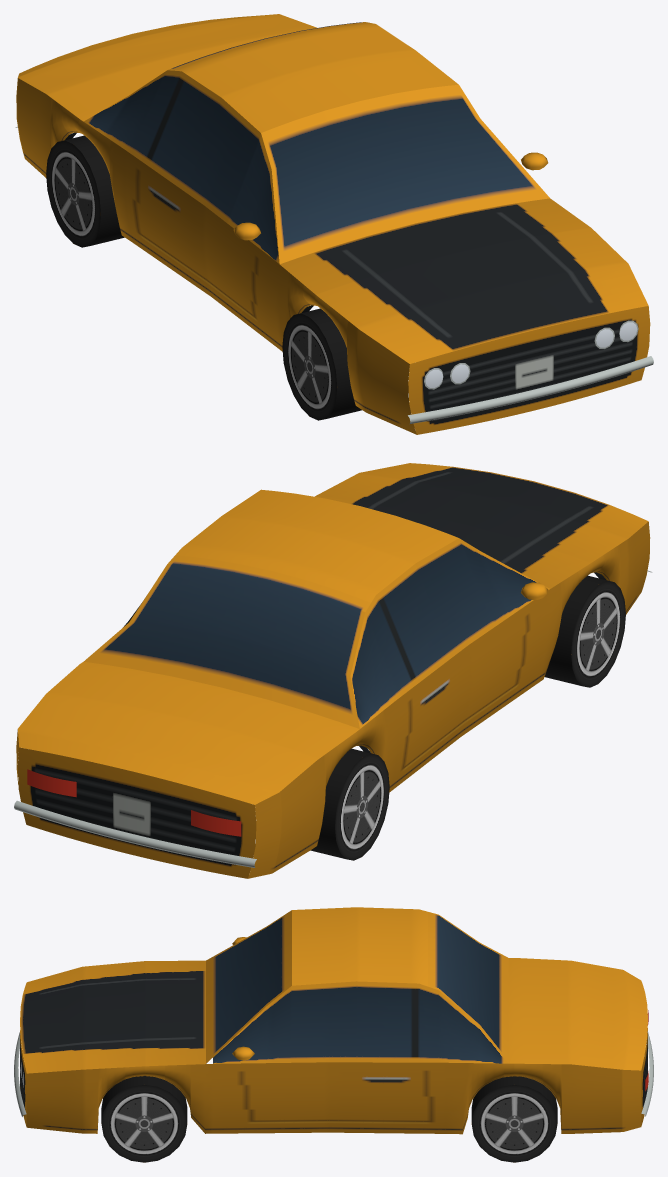
The model's file is cc96-strip-study.glb.
The picture shows the model from 3 angles, top to bottom: view 1: azimuth 30°, elevation 25°; view 2: azimuth 150°, elevation 25°; view 3: azimuth 270°, elevation 25°; orthographic projection. The views are drawn at different scales.
Visible parts, largest first — view 1: Body, Cylinder.002, Cylinder.001; view 2: Body, Cylinder.001, Cylinder.002; view 3: Body, Cylinder, Cylinder.003.
Part boxes in pixels (bbox=[...]): Body: bbox=[15, 14, 653, 434]; Cylinder.002: bbox=[46, 135, 124, 247]; Cylinder.001: bbox=[282, 308, 361, 420]; Body: bbox=[14, 463, 652, 878]; Cylinder.001: bbox=[544, 575, 625, 687]; Cylinder.002: bbox=[310, 748, 389, 860]; Body: bbox=[14, 907, 653, 1134]; Cylinder: bbox=[101, 1076, 187, 1162]; Cylinder.003: bbox=[471, 1076, 557, 1162].
Size of the model in its own units: 1.57 by 1.04 by 3.57.
Materials: 4 (2 with a texture image).
